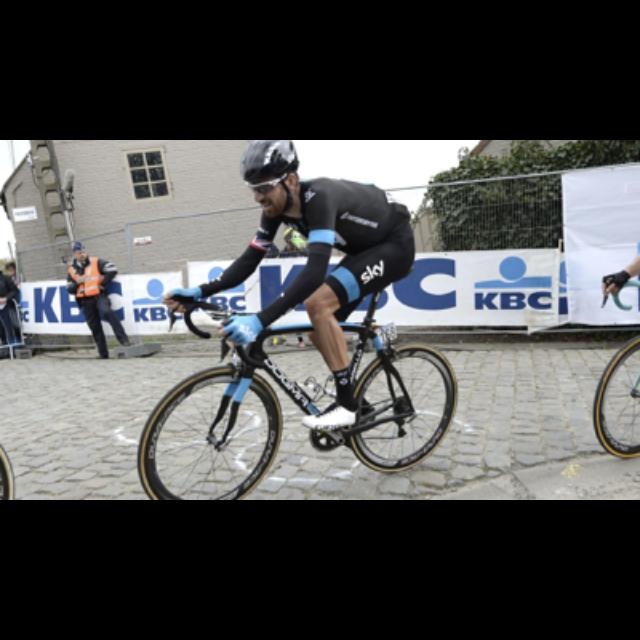With Helmet: (231, 142, 309, 220)
